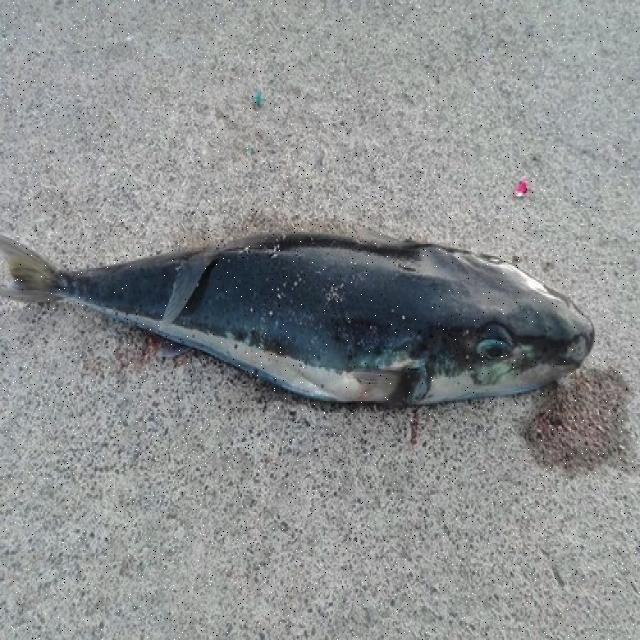Balik: (0, 234, 593, 406)
